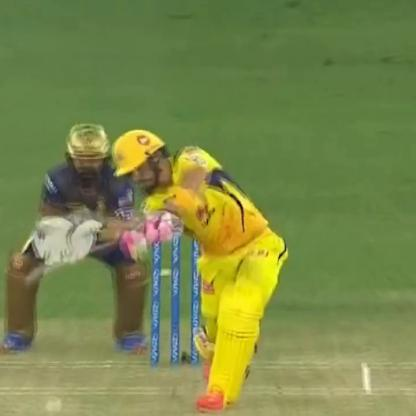ball: (42, 394, 63, 414)
bat: (28, 232, 177, 280)
pitch: (4, 334, 416, 415)
